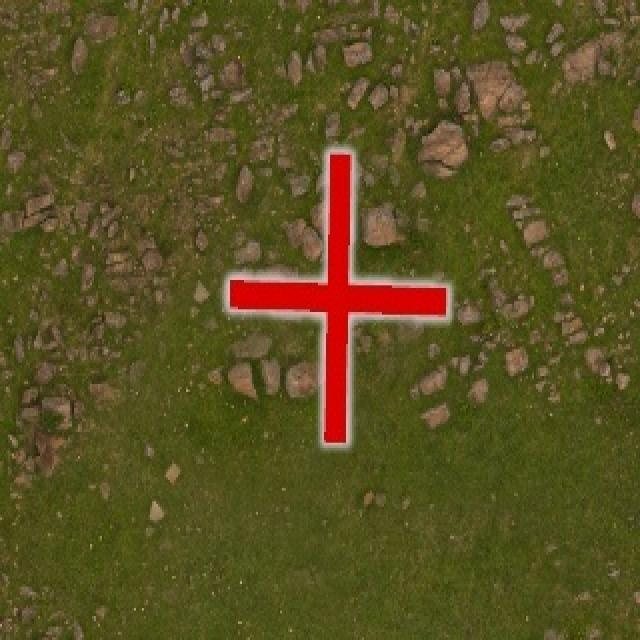x_marker: (227, 151, 447, 441)
